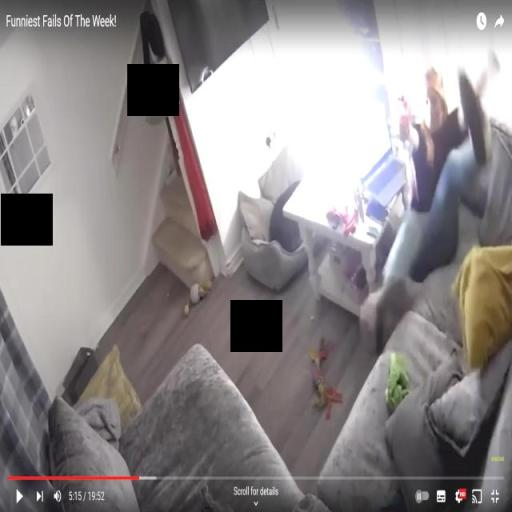Fall: (369, 66, 488, 359)
